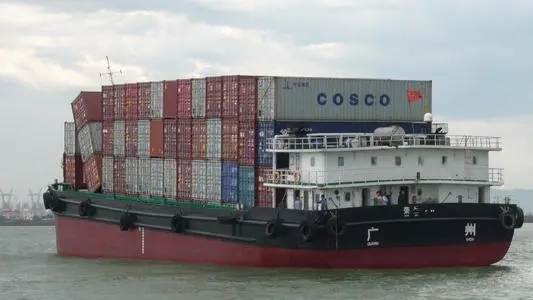Cargoship: (44, 68, 529, 268)
